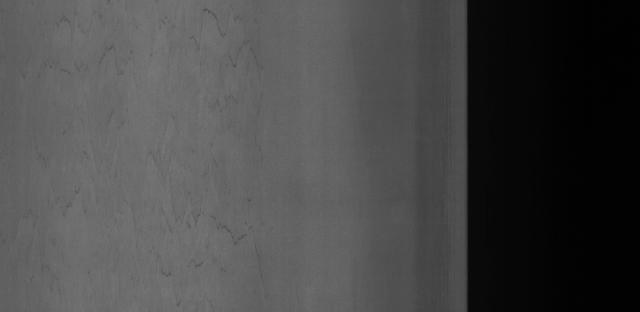silk_spot: (133, 26, 294, 229)
